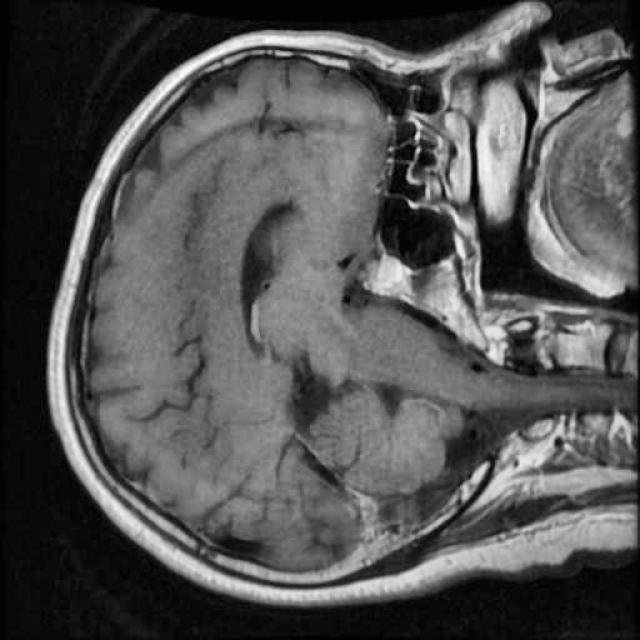Tumor: (358, 246, 422, 308)
